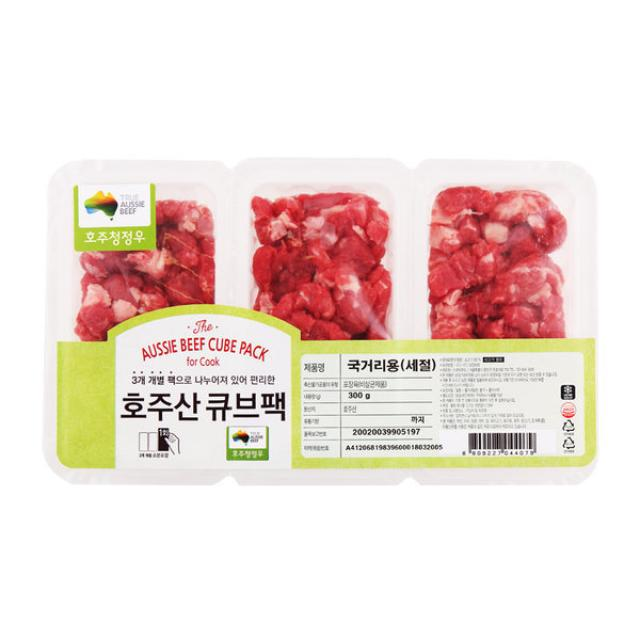beef: (237, 176, 577, 340)
